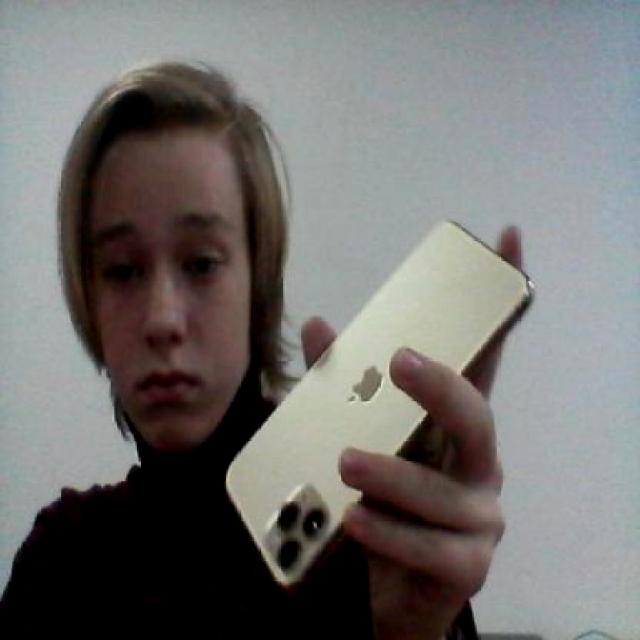phone: (208, 207, 557, 598)
